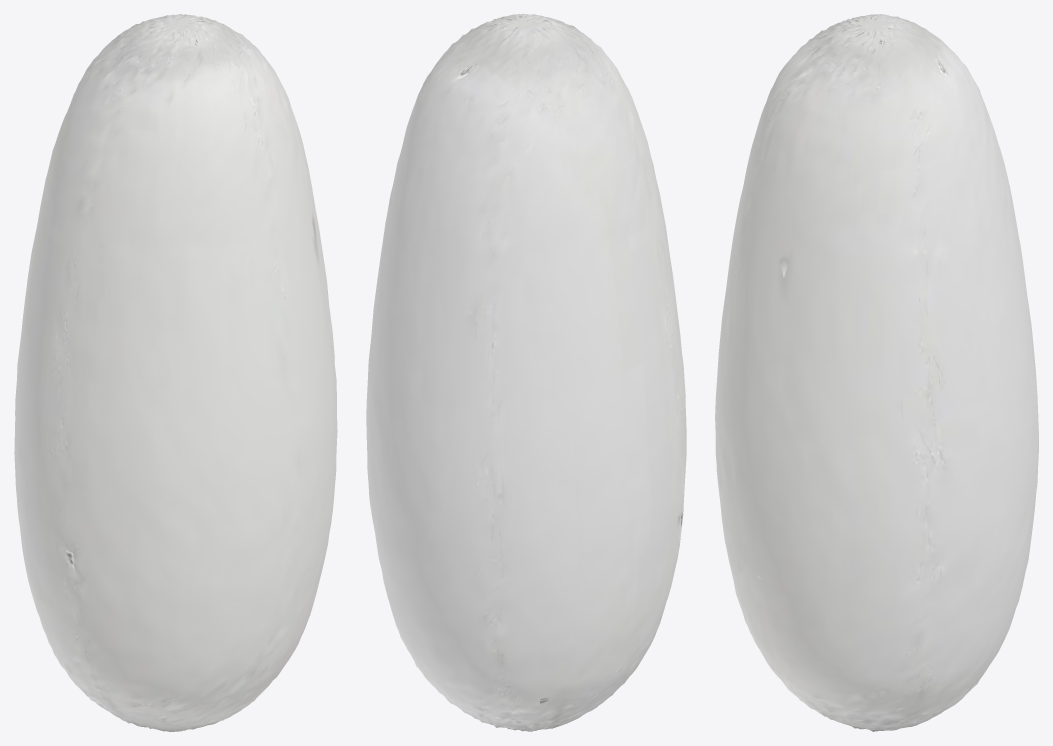
File: antebrazo.glb
3 renders of one model, left to right at view 1: azimuth 30°, elevation 25°; view 2: azimuth 150°, elevation 25°; view 3: azimuth 270°, elevation 25°, orthographic.
Parts seen in each view (by area): view 1: Mesh_0; view 2: Mesh_0; view 3: Mesh_0.
Part boxes in pixels (x1,y1,x2,y2): Mesh_0: (14,14,337,731); Mesh_0: (366,14,686,731); Mesh_0: (715,14,1038,731).
Bounding box in the file's own units: 0.083 × 0.1962 × 0.0828.
1 material, 1 textured.
